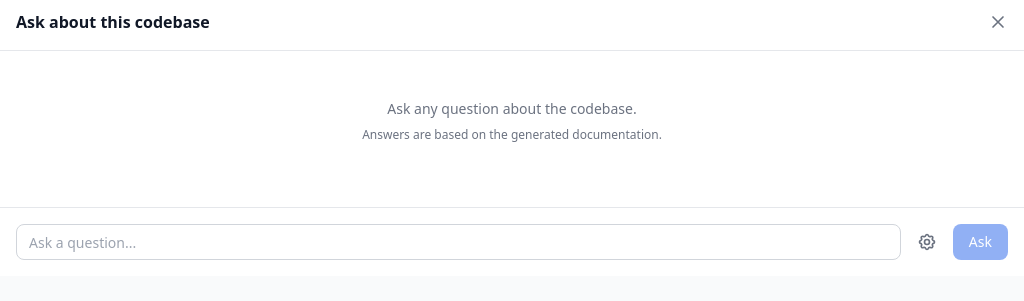
Test: AskPanel › answer display › displays answer from done event
Type "What is this codebase?" into the text box with placeholder "Ask a question...". click: (458, 242)
box: [16, 224, 901, 260]
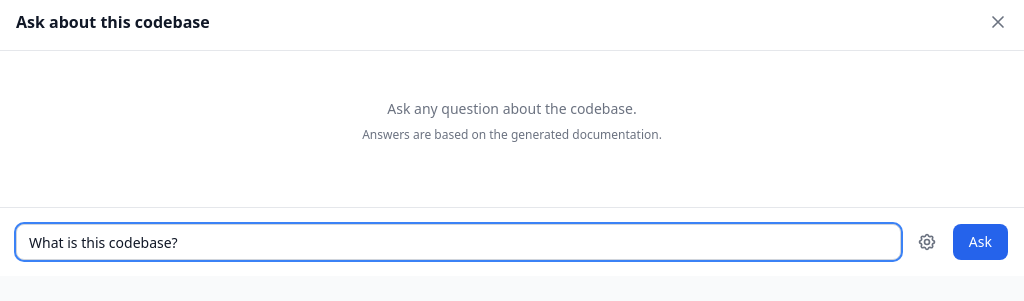
Click the button "Ask". click: (980, 242)
box: [953, 224, 1008, 260]
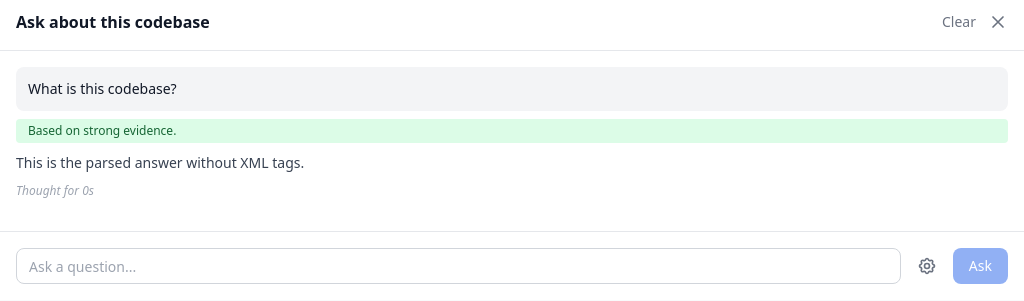
Expected: the text "This is the parsed answer without XML tags." is shown, [16, 153, 304, 172]
